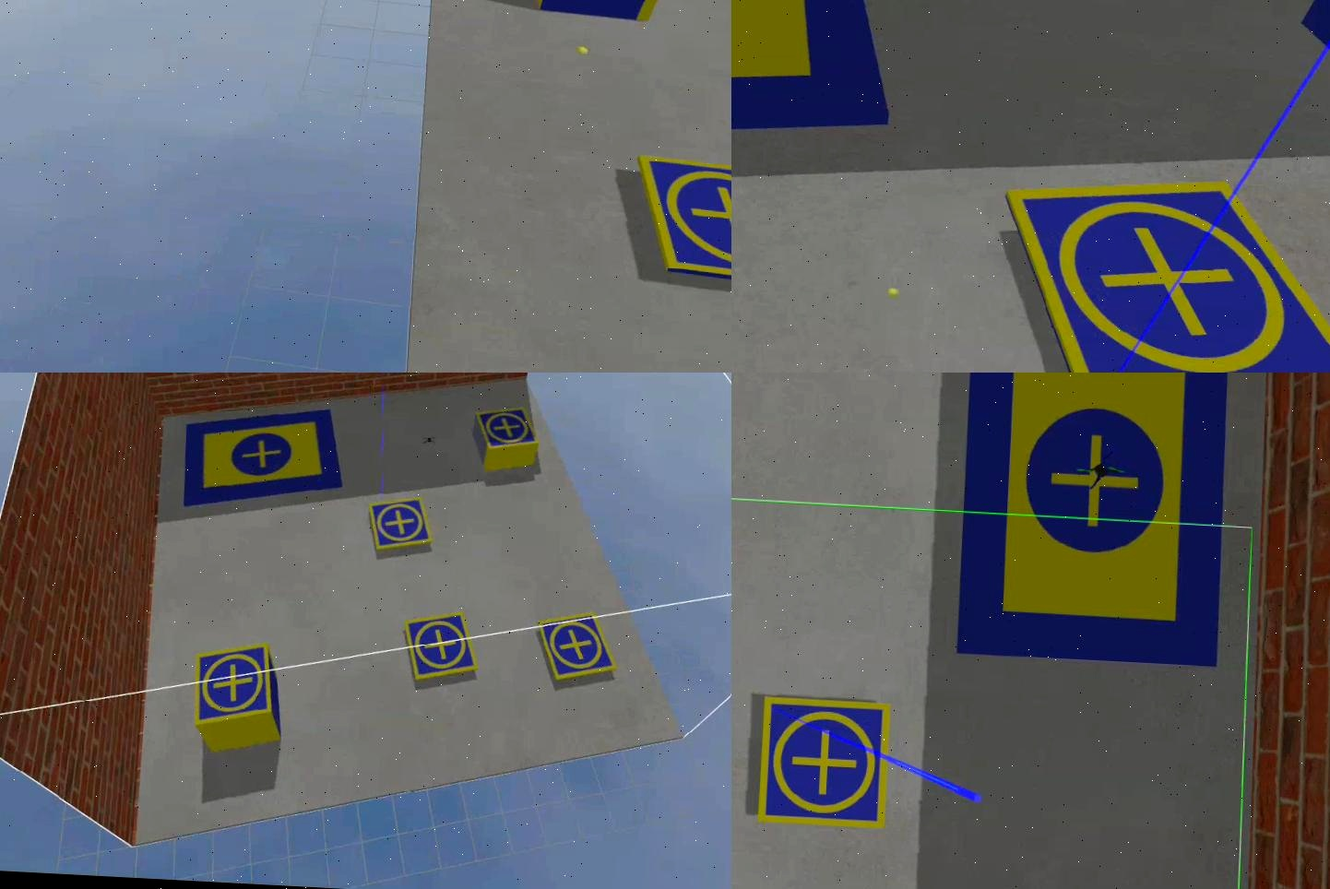large_base: (954, 373, 1234, 672), (185, 404, 349, 516)
small_base: (994, 171, 1330, 373), (756, 697, 889, 831), (632, 153, 731, 293), (193, 642, 279, 731), (537, 611, 620, 688), (403, 611, 482, 686), (366, 497, 435, 556), (473, 406, 542, 454)
